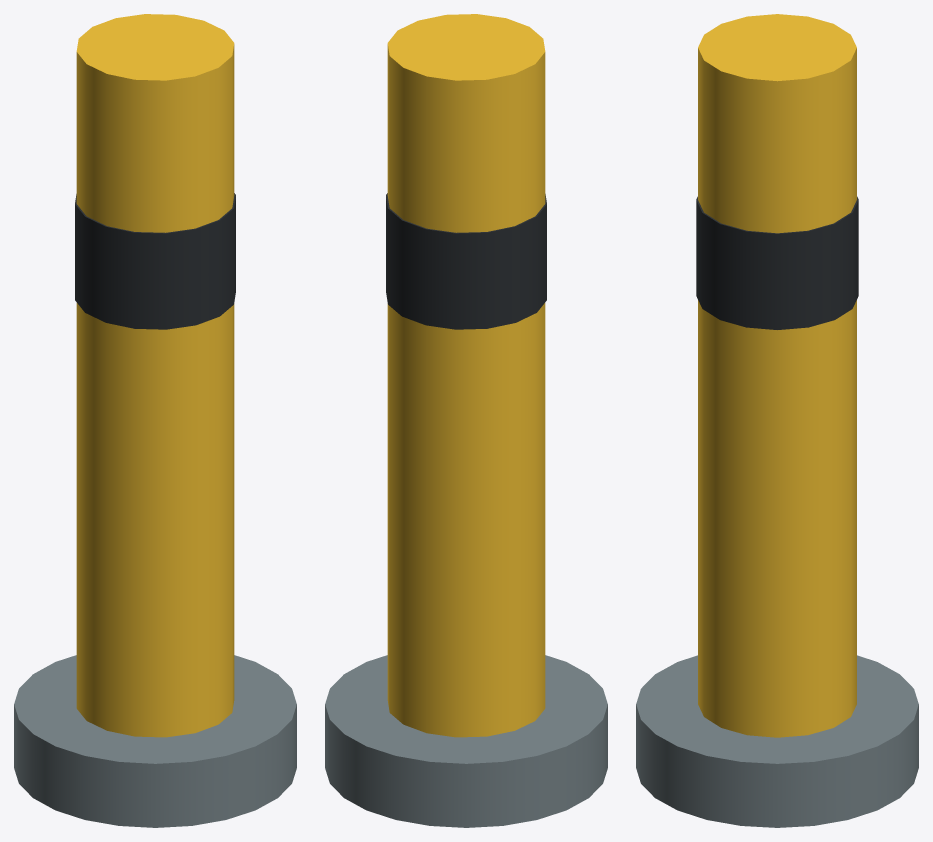
The model's file is Safety_Bollard.fbx.
3 views of the same model, side by side, from view 1: azimuth 30°, elevation 25°; view 2: azimuth 150°, elevation 25°; view 3: azimuth 270°, elevation 25° (orthographic).
Visible parts, largest first — view 1: Safety_Bollard_SafetyYellow, Safety_Bollard_SteelDark, Safety_Bollard_Rubber; view 2: Safety_Bollard_SafetyYellow, Safety_Bollard_SteelDark, Safety_Bollard_Rubber; view 3: Safety_Bollard_SafetyYellow, Safety_Bollard_SteelDark, Safety_Bollard_Rubber.
Boxes of the visible parts, x1,y1,x2,y2 form: Safety_Bollard_SafetyYellow: (76,14,234,737); Safety_Bollard_SteelDark: (14,655,296,827); Safety_Bollard_Rubber: (75,193,235,329); Safety_Bollard_SafetyYellow: (387,14,545,737); Safety_Bollard_SteelDark: (325,655,607,827); Safety_Bollard_Rubber: (386,193,546,329); Safety_Bollard_SafetyYellow: (698,14,856,737); Safety_Bollard_SteelDark: (636,655,918,827); Safety_Bollard_Rubber: (696,196,858,329).
Size of the model in its own units: 32 by 90 by 32.
